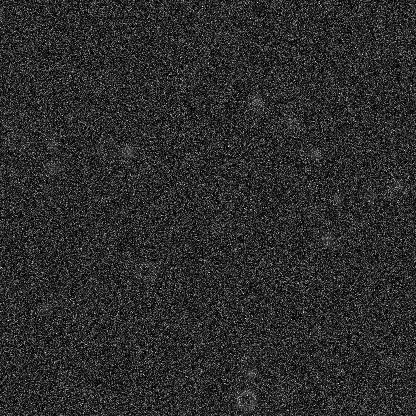Ring: (231, 53, 255, 77), (233, 387, 257, 411), (80, 281, 104, 305), (210, 212, 234, 236), (134, 260, 158, 284), (4, 129, 28, 153), (96, 137, 120, 161)
Spot: (388, 177, 404, 193), (330, 189, 346, 205), (242, 365, 258, 381), (176, 286, 192, 302), (120, 143, 136, 159), (37, 299, 53, 315), (384, 353, 400, 369), (283, 114, 299, 130), (307, 146, 323, 162), (43, 136, 59, 152), (44, 159, 60, 175), (319, 231, 335, 247), (294, 92, 310, 108), (362, 188, 378, 204), (271, 386, 287, 402), (236, 352, 252, 368), (248, 93, 264, 109)
